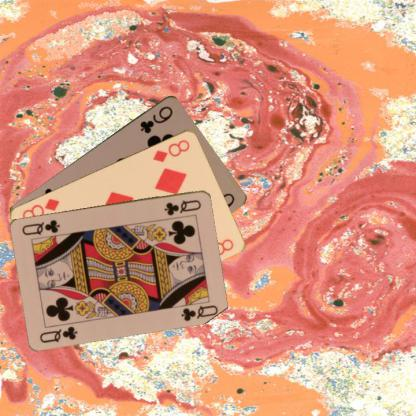8d: (150, 136, 191, 164)
9c: (137, 102, 174, 134)
Qc: (37, 323, 79, 344), (162, 196, 203, 216)
